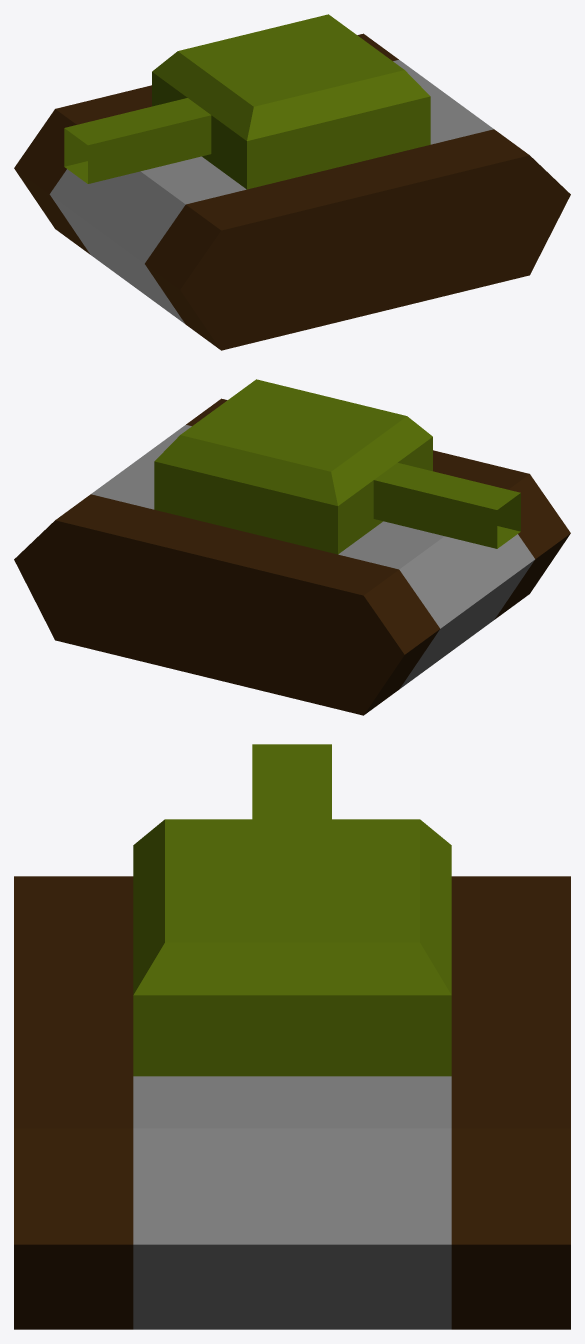
The model's file is tank_npc_2.glb.
3 renders of one model, top to bottom at view 1: azimuth 30°, elevation 25°; view 2: azimuth 150°, elevation 25°; view 3: azimuth 270°, elevation 25°, orthographic. The views are drawn at different scales.
Parts seen in each view (by area): view 1: tank_npc_2; view 2: tank_npc_2; view 3: tank_npc_2.
Boxes of the visible parts, box(x1,y1,x2,y2) form: tank_npc_2: box(14, 14, 570, 350); tank_npc_2: box(14, 379, 570, 715); tank_npc_2: box(14, 744, 570, 1329).
Size of the model in its own units: 2 by 0.8918 by 1.4.
Materials: 1 (1 with a texture image).
